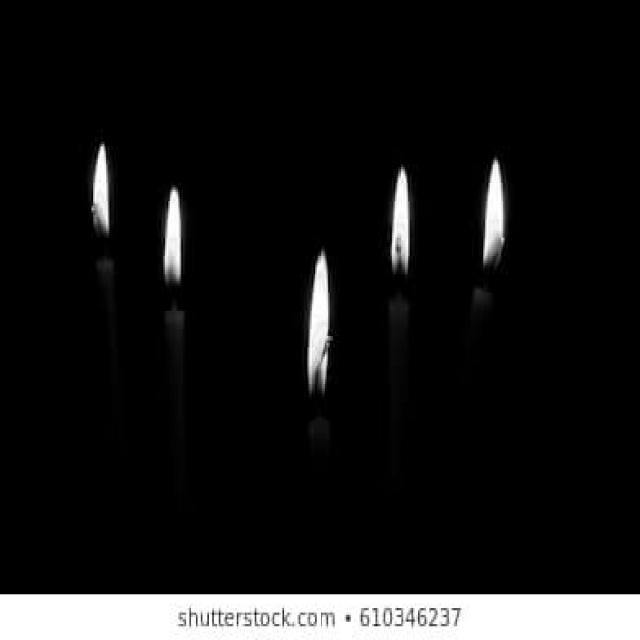Fire: (306, 252, 331, 403), (483, 158, 506, 276), (391, 167, 411, 286), (162, 190, 182, 290), (92, 144, 110, 245)
